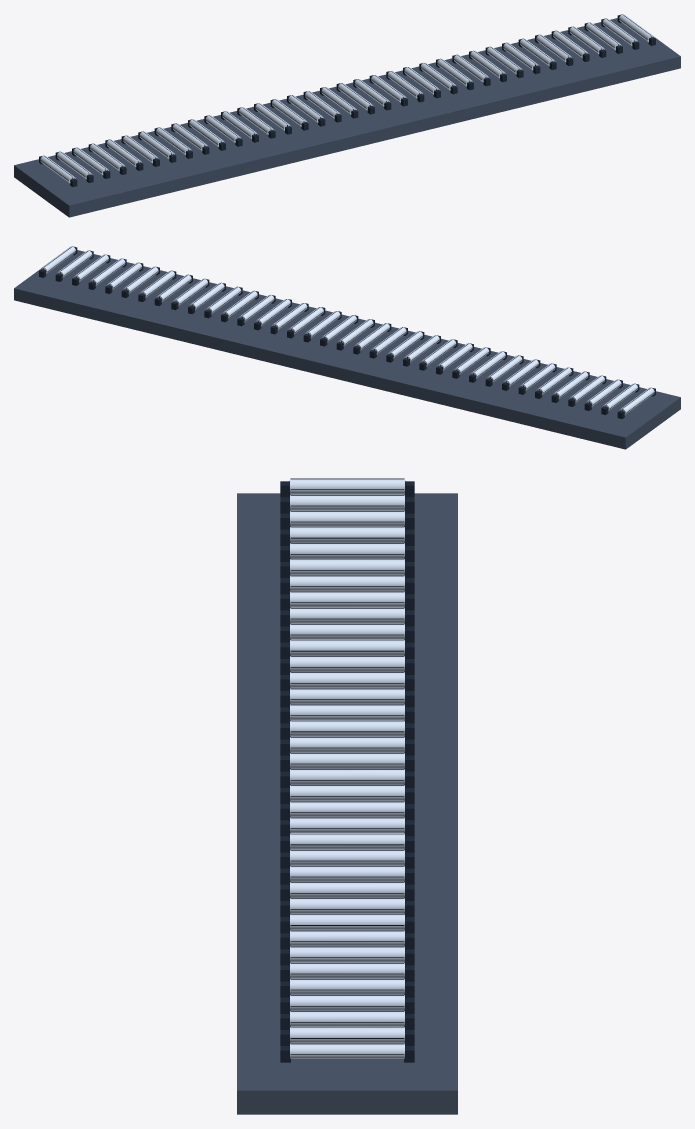
The model's file is runout_cooling_table.glb.
3 renders of one model, top to bottom at view 1: azimuth 30°, elevation 25°; view 2: azimuth 150°, elevation 25°; view 3: azimuth 270°, elevation 25°, orthographic. The views are drawn at different scales.
Parts seen in each view (by area): view 1: RunoutCoolingTable, RunoutRollers, RunoutRoller_1, RunoutRoller_18, RunoutRoller_29, RunoutRoller_31, RunoutRoller_3, RunoutRoller_16, RunoutRoller_26, RunoutRoller_33, RunoutRoller_9, RunoutRoller_24 (+12 smaller); view 2: RunoutCoolingTable, RunoutRollers, RunoutRoller_1, RunoutRoller_18, RunoutRoller_29, RunoutRoller_31, RunoutRoller_3, RunoutRoller_16, RunoutRoller_26, RunoutRoller_33, RunoutRoller_9, RunoutRoller_24 (+12 smaller); view 3: RunoutCoolingTable, RunoutRollers, RunoutRoller_3, RunoutRoller_11, RunoutRoller_18, RunoutRoller_25, RunoutRoller_32, RunoutRoller_1, RunoutRoller_2, RunoutRoller_9, RunoutRoller_10, RunoutRoller_16 (+26 smaller).
Boxes of the visible parts, x1,y1,x2,y2 form: RunoutCoolingTable: (14,18,680,217); RunoutRollers: (39,14,655,186); RunoutRoller_1: (40,155,75,183); RunoutRoller_18: (321,87,356,114); RunoutRoller_29: (503,42,538,70); RunoutRoller_31: (536,34,571,61); RunoutRoller_3: (73,147,108,174); RunoutRoller_16: (288,95,323,122); RunoutRoller_26: (453,54,488,82); RunoutRoller_33: (569,26,604,53); RunoutRoller_9: (172,123,207,150); RunoutRoller_24: (420,63,455,90); RunoutCoolingTable: (14,250,680,449); RunoutRollers: (39,246,655,418); RunoutRoller_1: (619,387,654,415); RunoutRoller_18: (338,319,373,346); RunoutRoller_29: (156,274,191,302); RunoutRoller_31: (123,266,158,293); RunoutRoller_3: (586,379,621,406); RunoutRoller_16: (371,327,406,354); RunoutRoller_26: (206,286,241,314); RunoutRoller_33: (90,258,125,285); RunoutRoller_9: (487,355,522,382); RunoutRoller_24: (239,295,274,322); RunoutCoolingTable: (237,493,457,1114); RunoutRollers: (280,481,414,1062); RunoutRoller_3: (289,510,405,526); RunoutRoller_11: (289,639,405,655); RunoutRoller_18: (289,752,405,768); RunoutRoller_25: (289,865,405,881); RunoutRoller_32: (289,978,405,994); RunoutRoller_1: (289,478,405,494); RunoutRoller_2: (289,494,405,510); RunoutRoller_9: (289,607,405,623); RunoutRoller_10: (289,623,405,639); RunoutRoller_16: (289,720,405,736).
Bounding box in the file's own units: 32 × 1.36 × 5.
